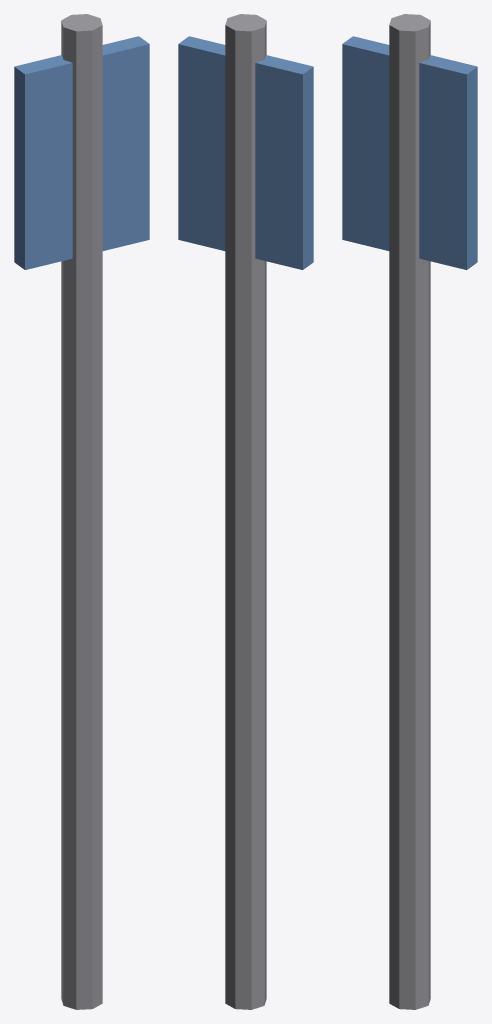
Rendered from bus_stop_sign.glb.
The picture shows the model from 3 angles, left to right: view 1: azimuth 30°, elevation 25°; view 2: azimuth 150°, elevation 25°; view 3: azimuth 330°, elevation 25°; orthographic projection.
Parts seen in each view (by area): view 1: post, plate; view 2: post, plate; view 3: post, plate.
Part boxes in pixels (<box>): post: <box>61,14,102,1009</box>; plate: <box>14,36,149,269</box>; post: <box>225,14,266,1009</box>; plate: <box>178,36,313,269</box>; post: <box>389,14,430,1009</box>; plate: <box>342,36,477,269</box>.
Bounding box in the file's own units: 0.3999 × 3 × 0.1191.
